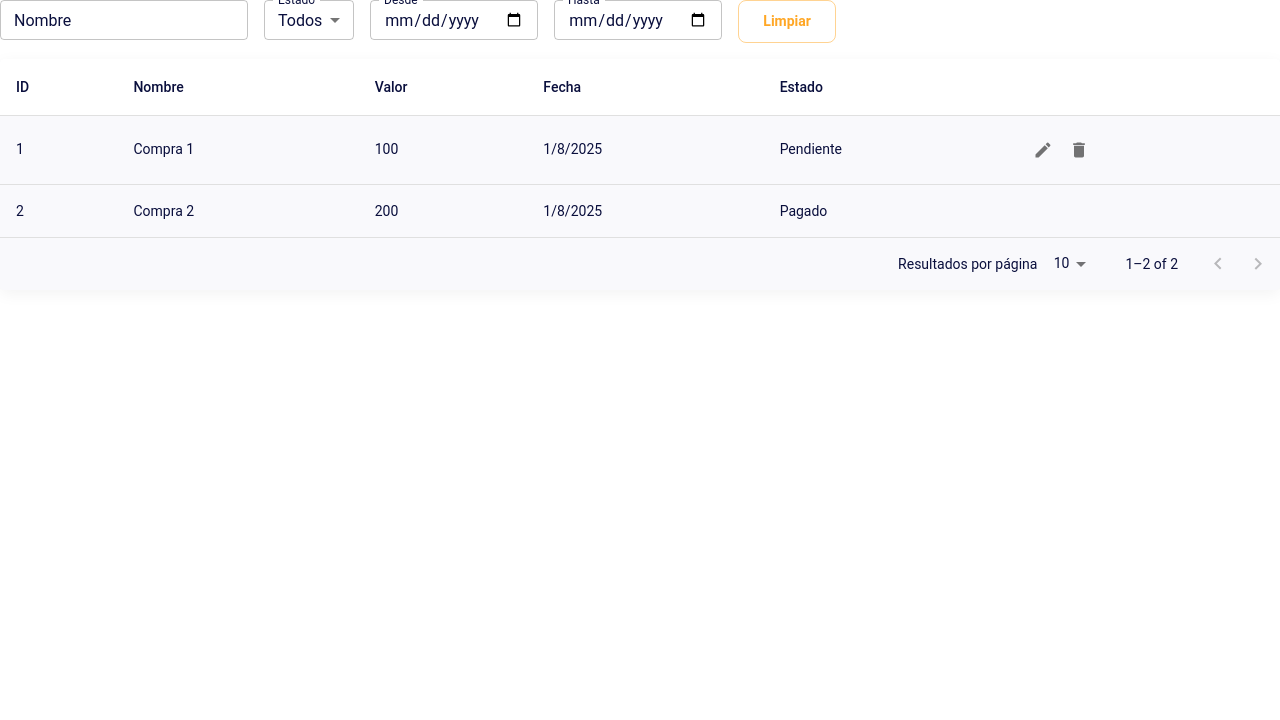
Test case: TransactionsTable › opens edit dialog when clicking the Edit button
Check: the text "Compra 1" is shown, box left=117, top=116, right=359, bottom=184
What coordinates should you click on to do the following:
click the button named "editar"
I would click on:
 (1043, 150)
Its box is left=1025, top=132, right=1061, bottom=168.
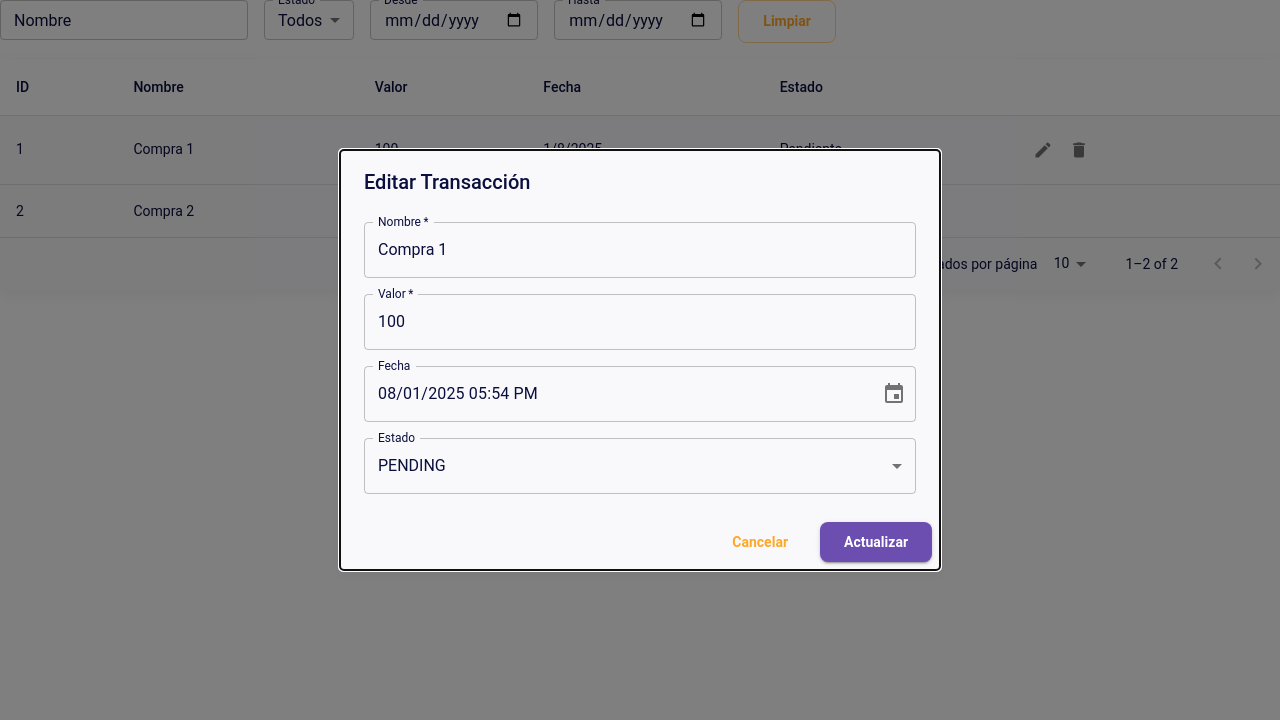
Check: the field labelled "Nombre *" holds "Compra 1", box left=364, top=222, right=916, bottom=278
